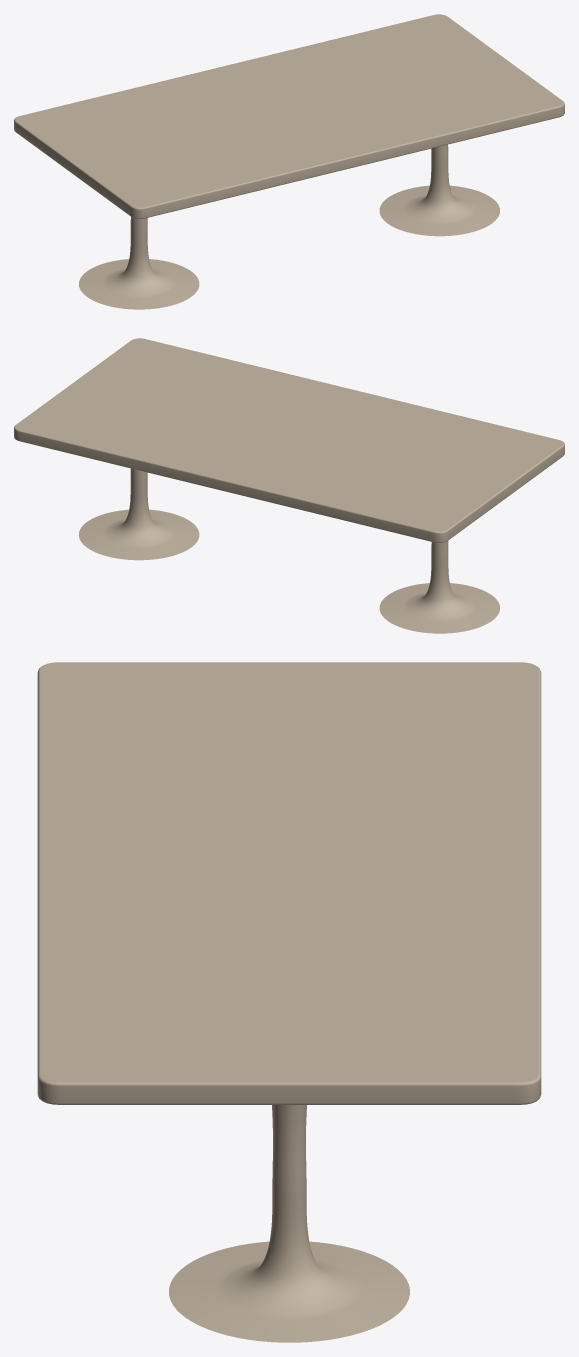
Rendered from 3dcodebench_TableDining_seed0.glb.
3 views of the same model, one above another, from view 1: azimuth 30°, elevation 25°; view 2: azimuth 150°, elevation 25°; view 3: azimuth 270°, elevation 25° (orthographic). The views are drawn at different scales.
Visible parts, largest first — view 1: object; view 2: object; view 3: object.
Boxes of the visible parts, box(x1,y1,x2,y2) form: object: box(14, 14, 564, 309); object: box(14, 338, 564, 633); object: box(37, 662, 541, 1342).
Size of the model in its own units: 2.32 by 0.6978 by 1.17.
